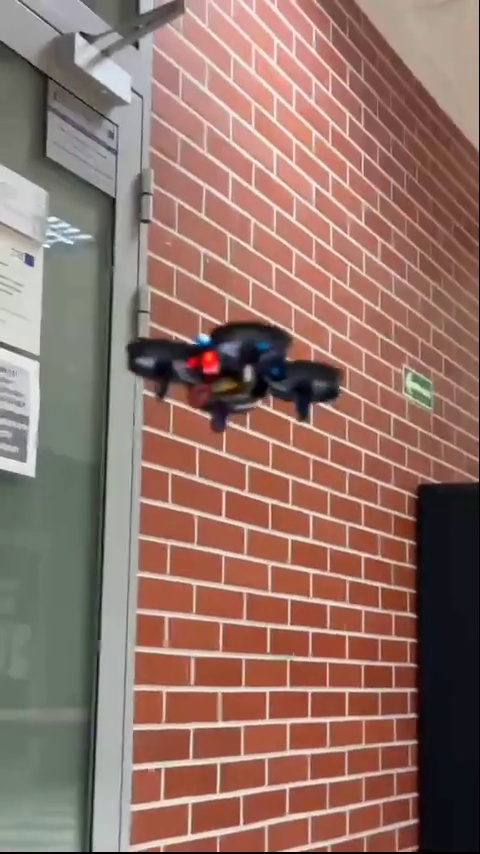drone: (128, 321, 340, 437)
